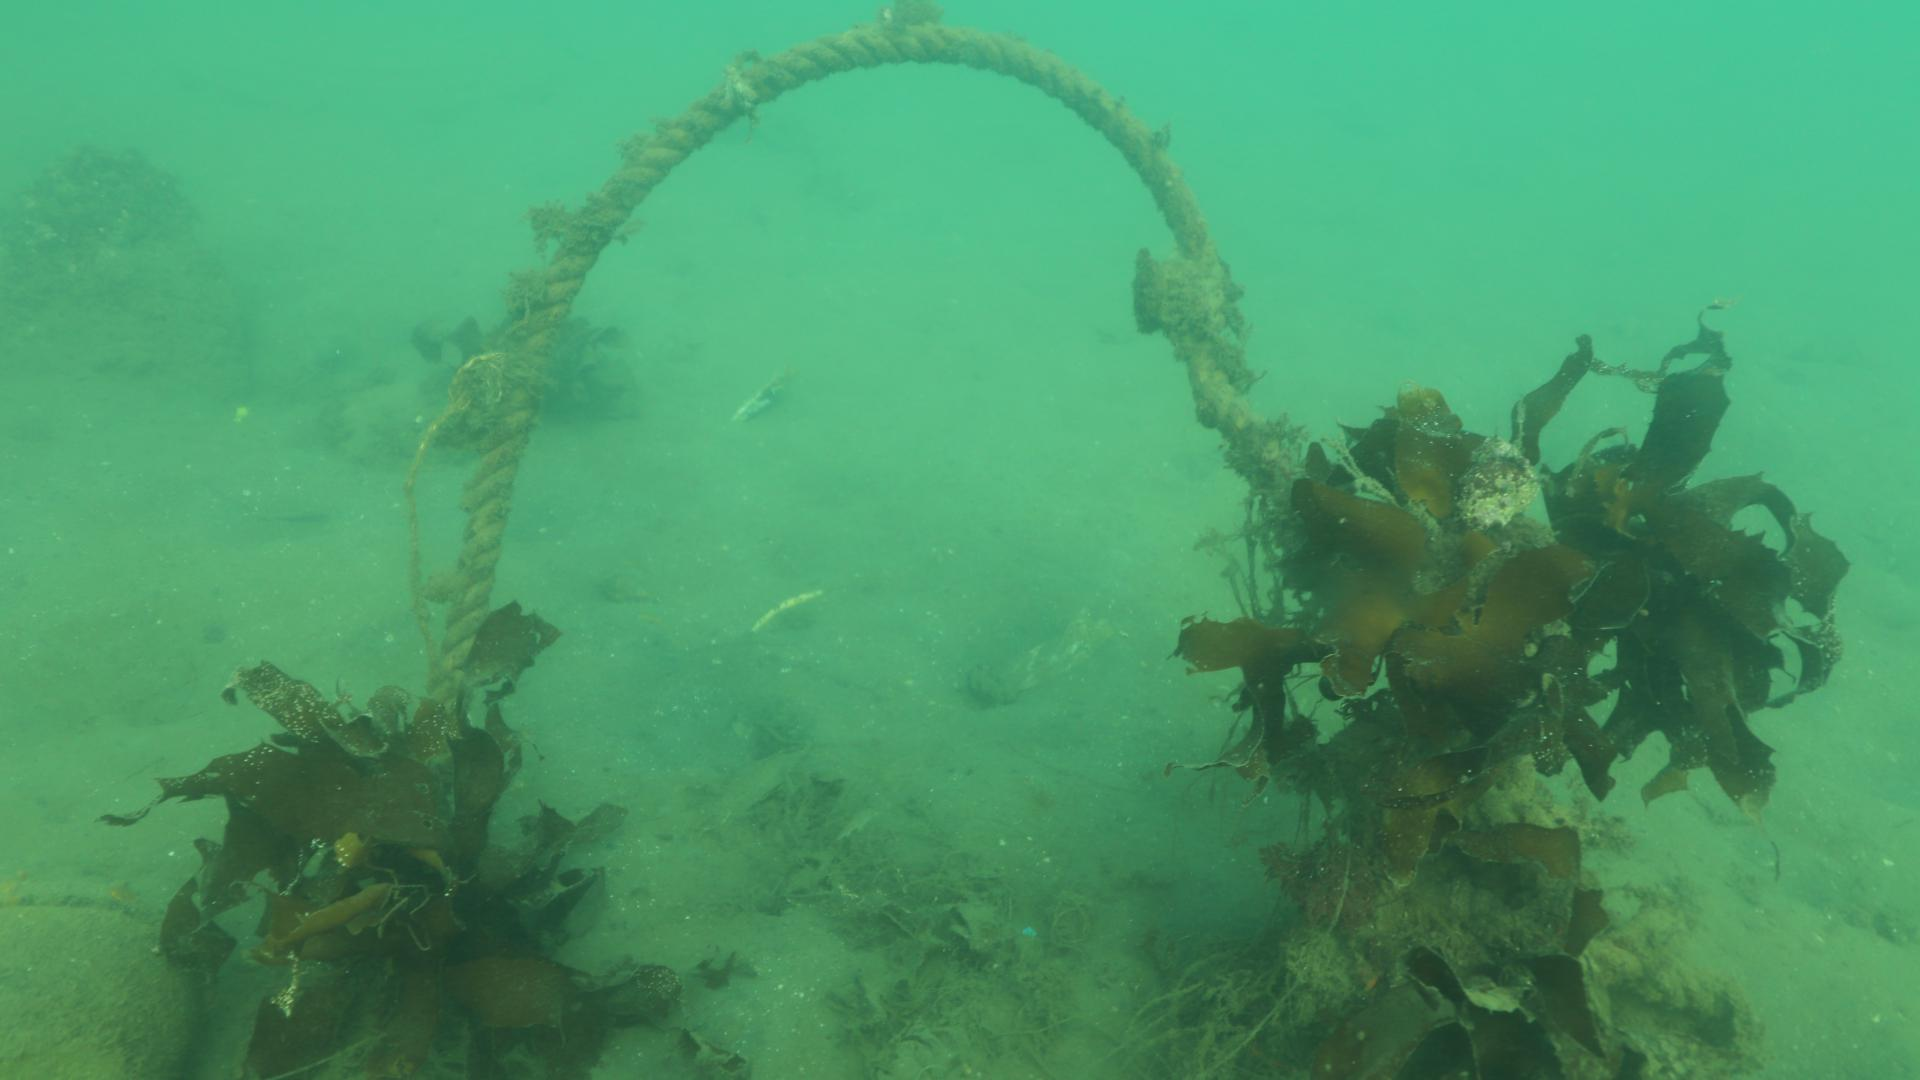rope: (422, 21, 1294, 713)
